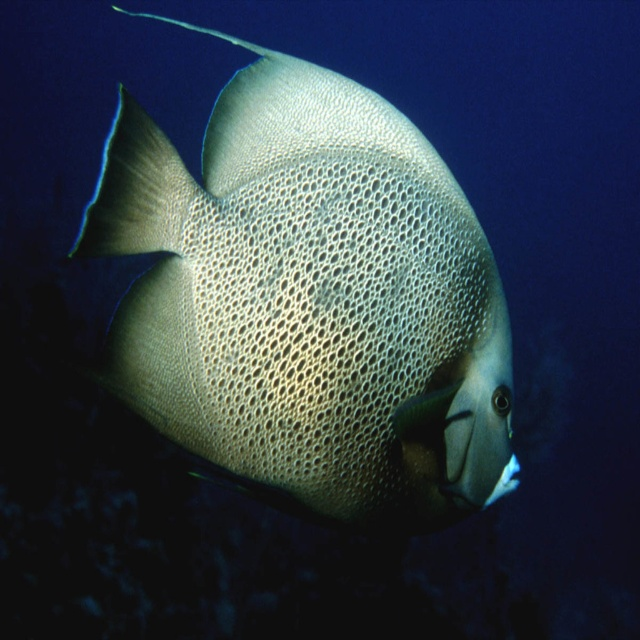Fish: (58, 22, 525, 553)
